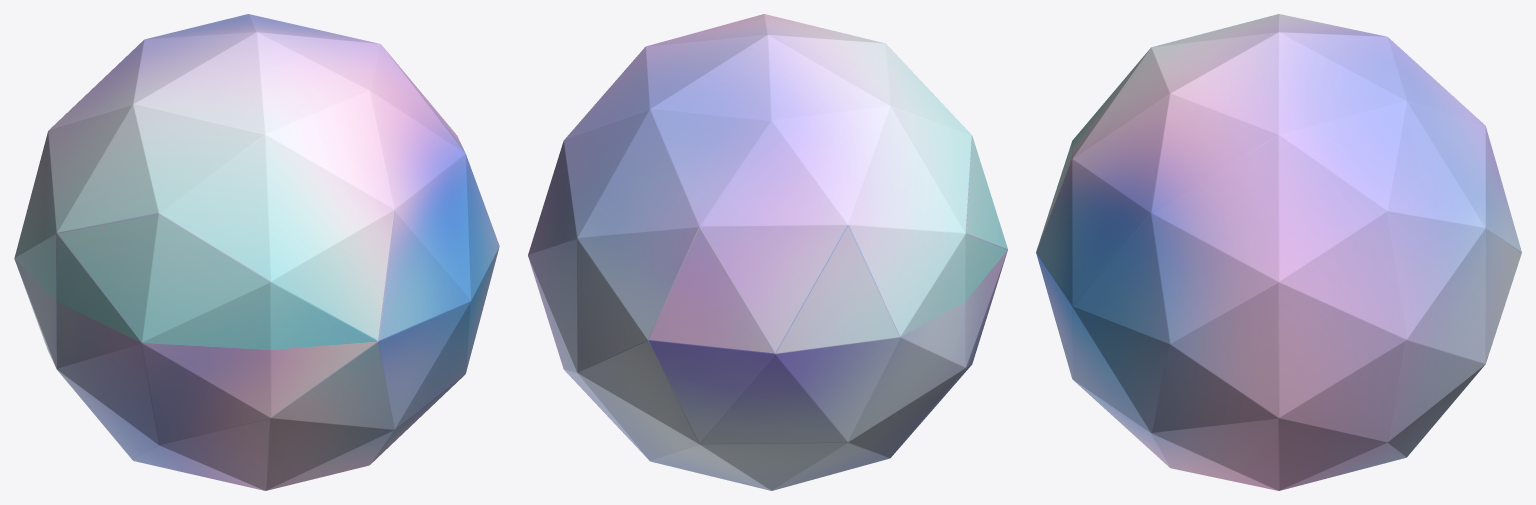
File: Prim_11.gltf
3 renders of one model, left to right at view 1: azimuth 30°, elevation 25°; view 2: azimuth 150°, elevation 25°; view 3: azimuth 270°, elevation 25°, orthographic.
Visible parts, largest first — view 1: 01; view 2: 01; view 3: 01.
Boxes of the visible parts, x1=… form: 01: x1=14, y1=14, x2=499, y2=490; 01: x1=528, y1=14, x2=1007, y2=490; 01: x1=1036, y1=14, x2=1521, y2=490.
Bounding box in the file's own units: 86.37 × 90.75 × 90.77.
1 material, 1 textured.
